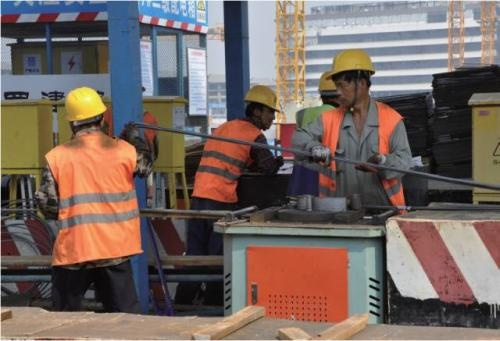yellow: (328, 48, 374, 107), (63, 86, 108, 136), (238, 83, 279, 132), (316, 70, 341, 106)
